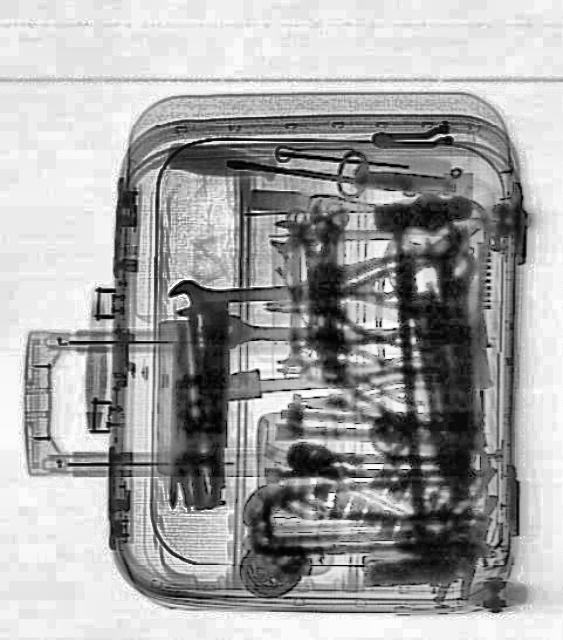Wrench: (166, 270, 304, 316), (270, 214, 394, 253)
